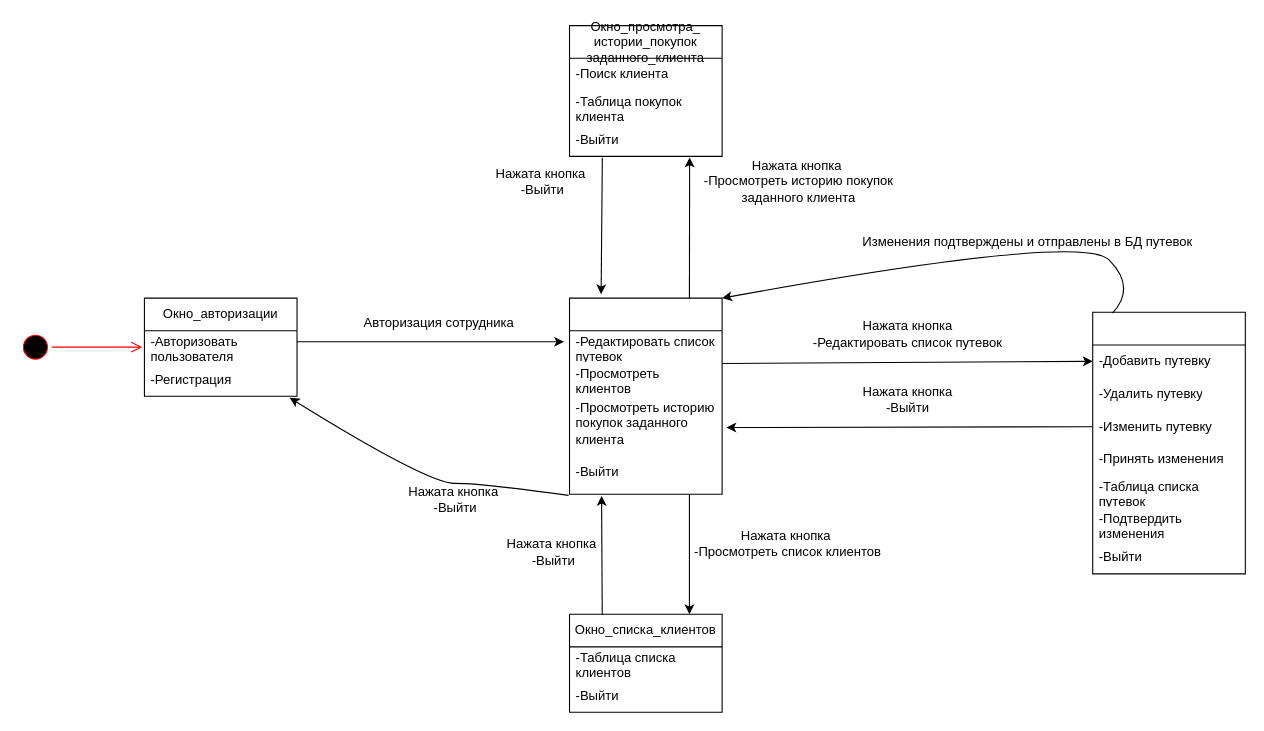
The diagram is 1264 pixels wide and 731 high, and some of its shapes have lost their labels. The box of each missing label's shape, as (x1, y1, x2, y2) in pixels:
Окно_выбора действий_сотрудник: (568, 297, 722, 494)
Окно_редактирования списка_путевок: (1092, 311, 1245, 574)
